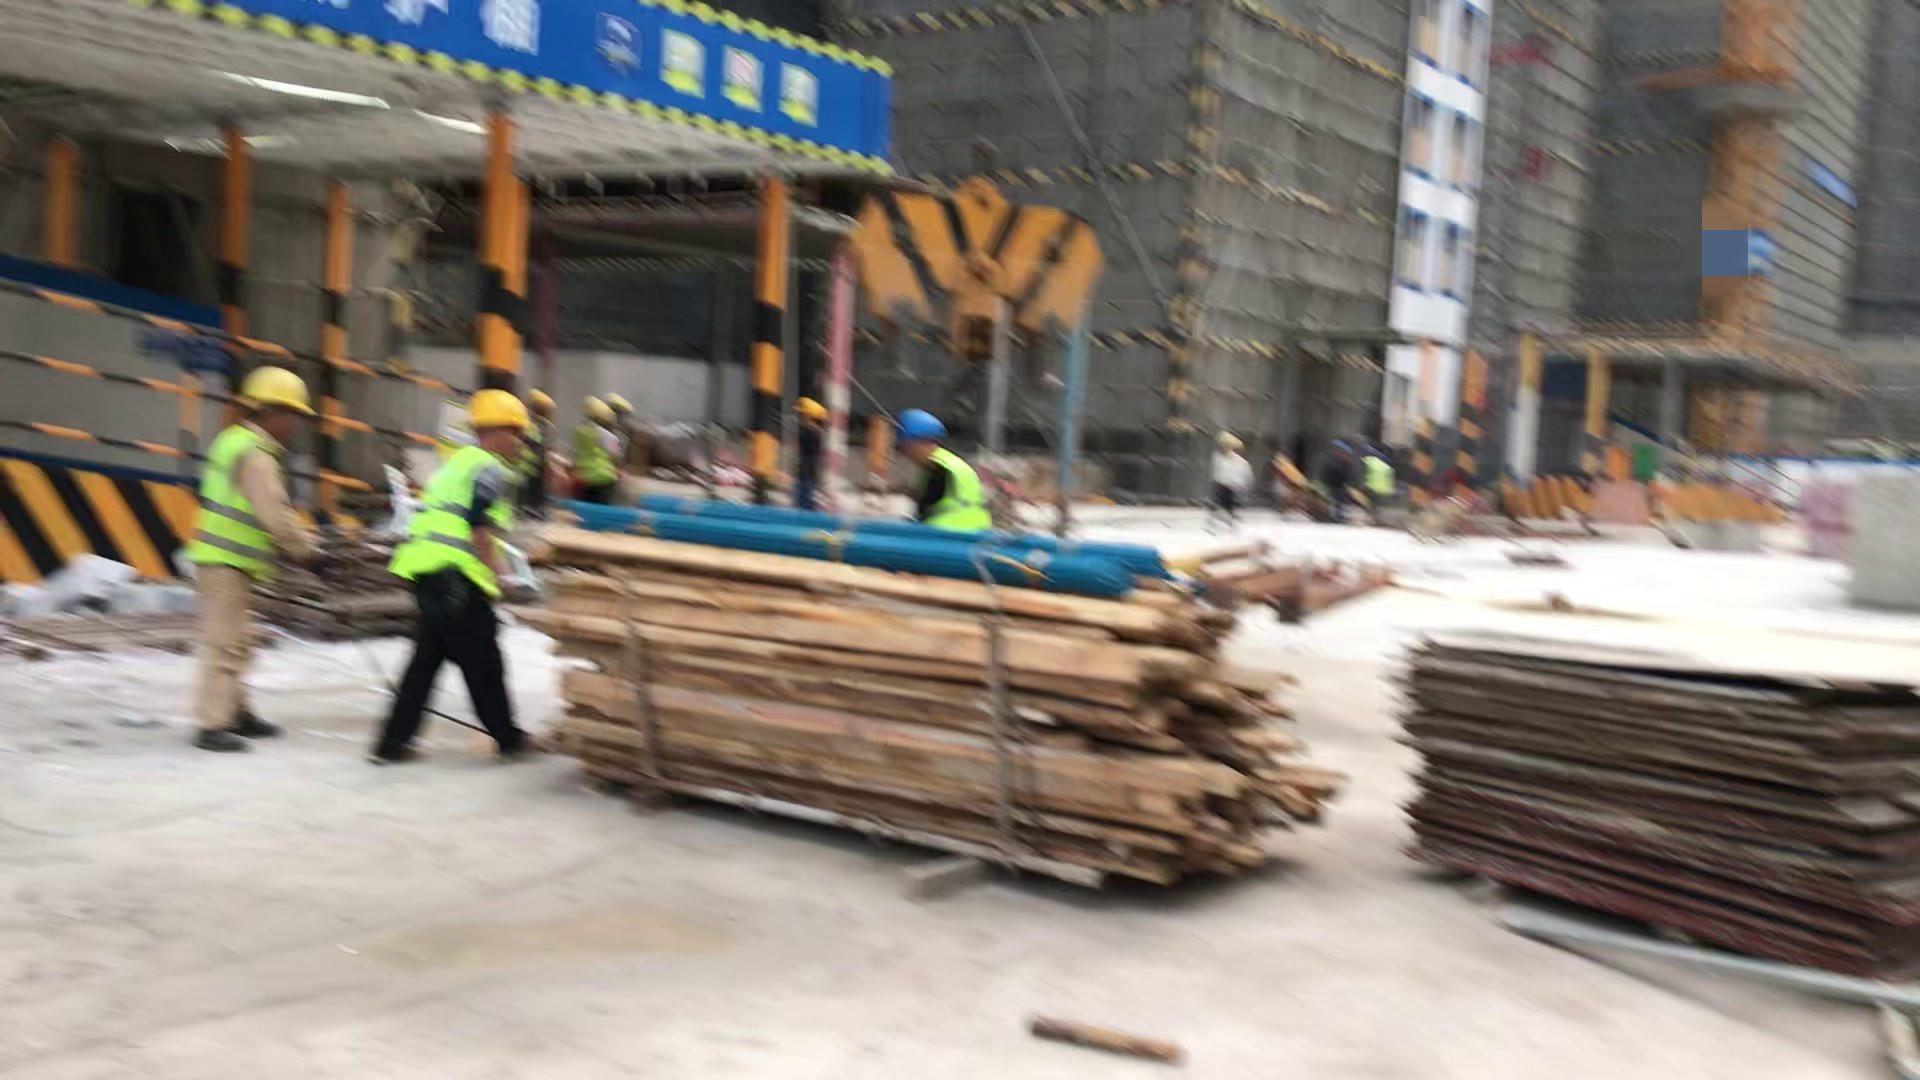helmet: (455, 386, 543, 444), (251, 366, 314, 419), (899, 410, 951, 449), (576, 395, 614, 427)
person: (379, 384, 552, 770), (178, 345, 296, 752), (879, 390, 1004, 552), (1200, 418, 1257, 535), (580, 396, 618, 500)
vest: (424, 443, 523, 579), (193, 428, 268, 577), (907, 442, 979, 526)
